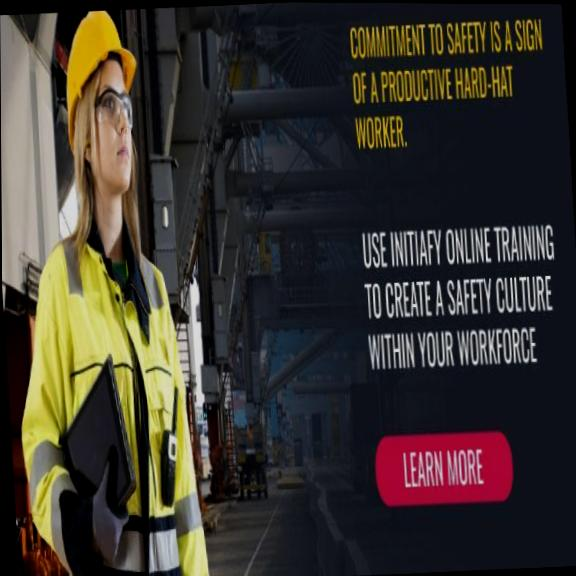safety_vest: (5, 216, 207, 576)
